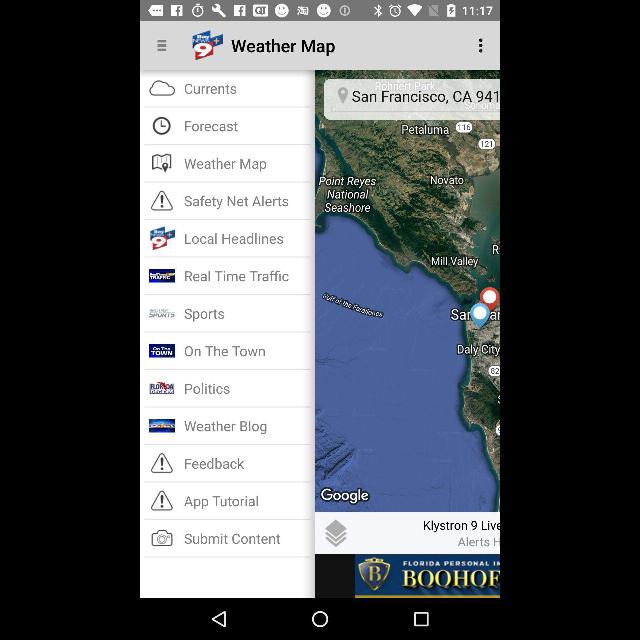icon: (320, 517, 352, 549), (205, 608, 237, 632), (310, 606, 330, 632), (150, 452, 174, 473), (151, 190, 173, 212), (151, 491, 173, 513), (334, 82, 354, 106), (146, 80, 176, 96), (149, 529, 175, 547), (410, 609, 432, 629), (150, 154, 172, 170), (153, 116, 170, 136), (155, 34, 169, 56), (476, 34, 486, 58)
image: (354, 554, 498, 598), (146, 224, 184, 252), (188, 32, 225, 58), (148, 302, 178, 324), (147, 268, 186, 284), (147, 342, 175, 358), (148, 418, 174, 432), (147, 382, 176, 394)
map: (316, 70, 498, 512)
panel: (142, 600, 498, 638)
text: (353, 89, 497, 111), (420, 516, 500, 550), (226, 37, 342, 59), (184, 267, 292, 285), (184, 156, 268, 174), (183, 231, 285, 245), (183, 533, 281, 547), (184, 197, 290, 209), (184, 344, 268, 358), (183, 420, 267, 434), (182, 494, 260, 506), (184, 457, 242, 471), (185, 83, 239, 97), (185, 120, 238, 134), (184, 308, 226, 324), (184, 382, 232, 396)
textbutton: (143, 444, 314, 484), (142, 406, 318, 444), (142, 106, 316, 144), (143, 296, 317, 334), (141, 144, 313, 182), (143, 182, 313, 220), (144, 334, 318, 371), (142, 258, 316, 294), (143, 221, 315, 257), (144, 486, 316, 522), (142, 524, 314, 558), (141, 71, 311, 105), (144, 372, 314, 406)
toolbar: (142, 71, 314, 598), (141, 22, 499, 70)
uppertaskbar: (142, 2, 500, 22)
